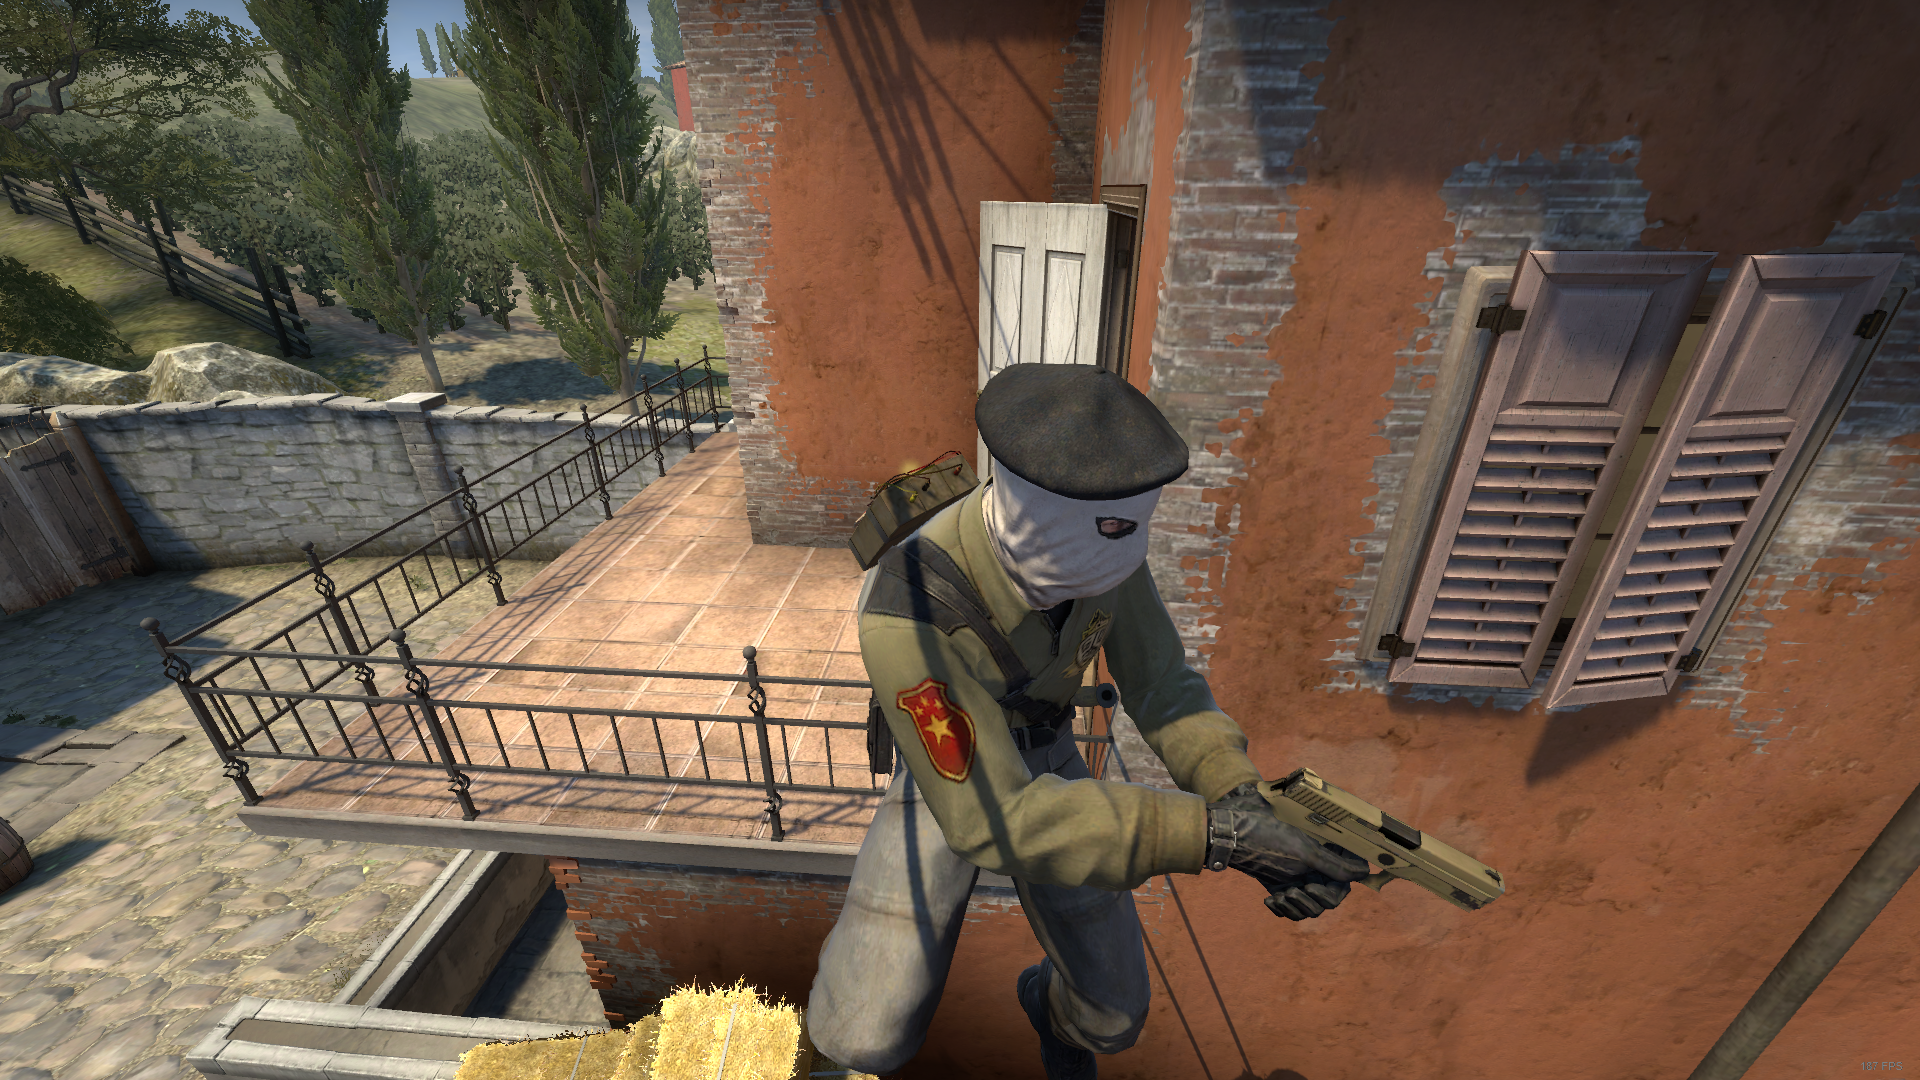t: (804, 365, 1367, 1080)
